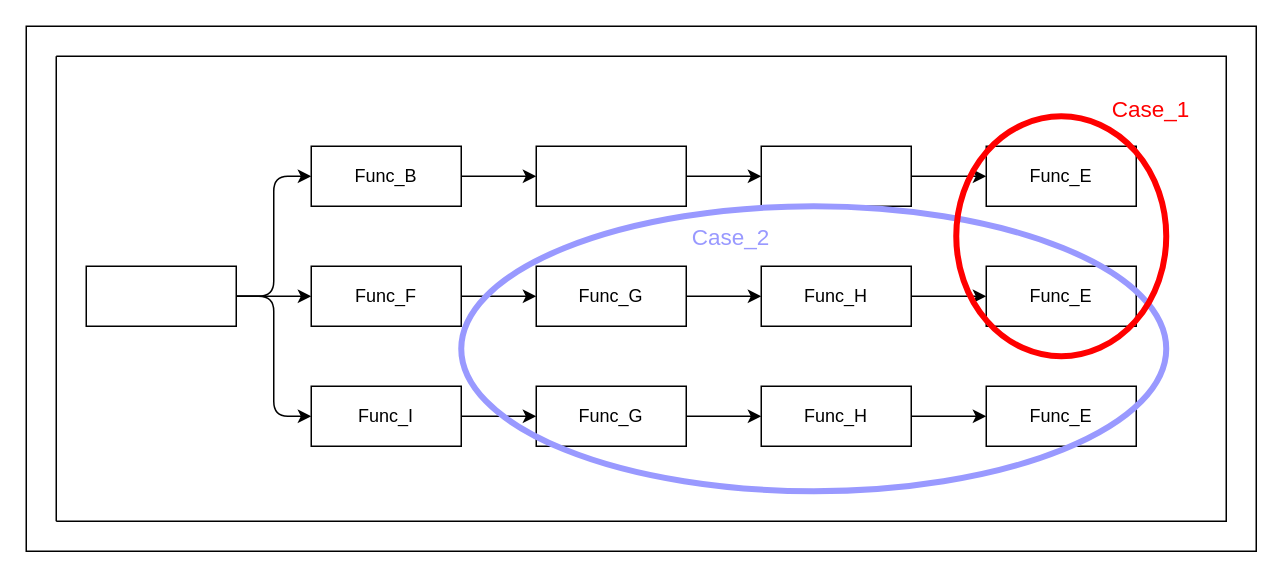
Image size: 1283x578. Some labels were removed from this diagram. The shapes that lost their labels are listed below. From the top down, each one's box as (x1, y1, x2, y2) in pixels, then its label:
(535, 145, 686, 206): Func_C
(760, 145, 911, 206): Func_D
(85, 265, 236, 326): Func_A
